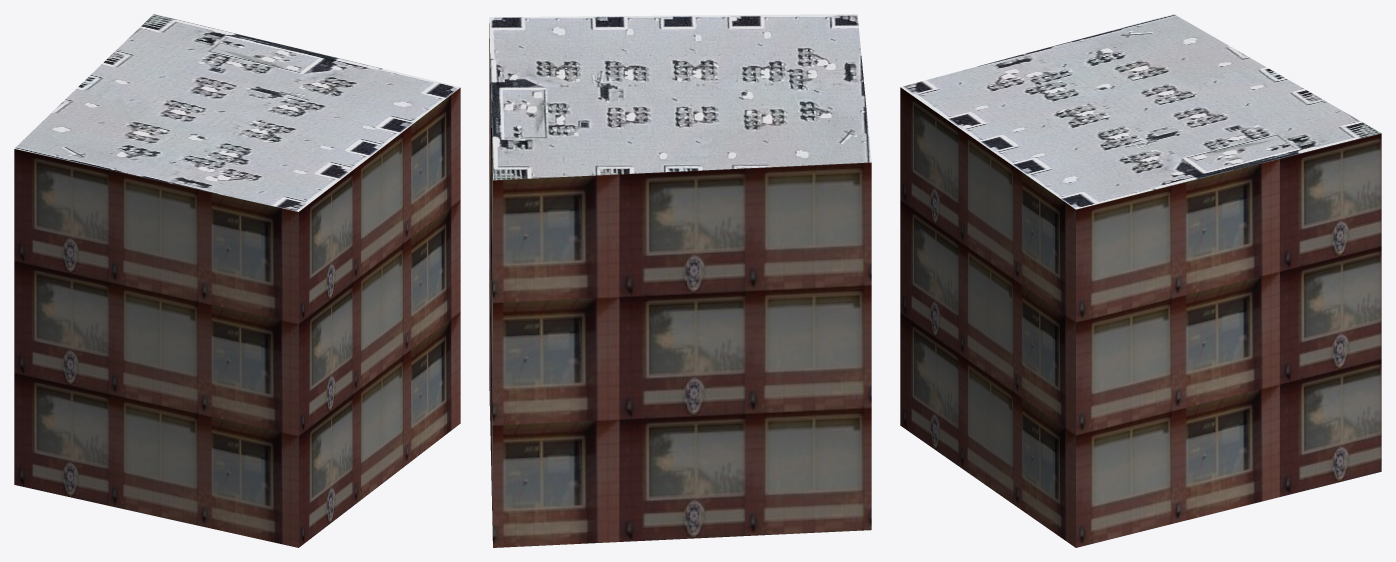
File: ResTex__1485.fbx
The picture shows the model from 3 angles, left to right: view 1: azimuth 30°, elevation 25°; view 2: azimuth 150°, elevation 25°; view 3: azimuth 270°, elevation 25°; orthographic projection. The views are drawn at different scales.
Parts seen in each view (by area): view 1: CityEngineMaterial_13_m, CityEngineMaterial_8_m; view 2: CityEngineMaterial_13_m, CityEngineMaterial_8_m; view 3: CityEngineMaterial_13_m, CityEngineMaterial_8_m.
Boxes of the visible parts, x1,y1,x2,y2 form: CityEngineMaterial_13_m: [14, 87, 460, 547]; CityEngineMaterial_8_m: [14, 14, 460, 211]; CityEngineMaterial_13_m: [489, 23, 871, 547]; CityEngineMaterial_8_m: [489, 14, 871, 180]; CityEngineMaterial_13_m: [900, 87, 1381, 547]; CityEngineMaterial_8_m: [900, 14, 1380, 209].
Bounding box in the file's own units: 11.16 × 9 × 11.61.
Materials: 2 (2 with a texture image).
